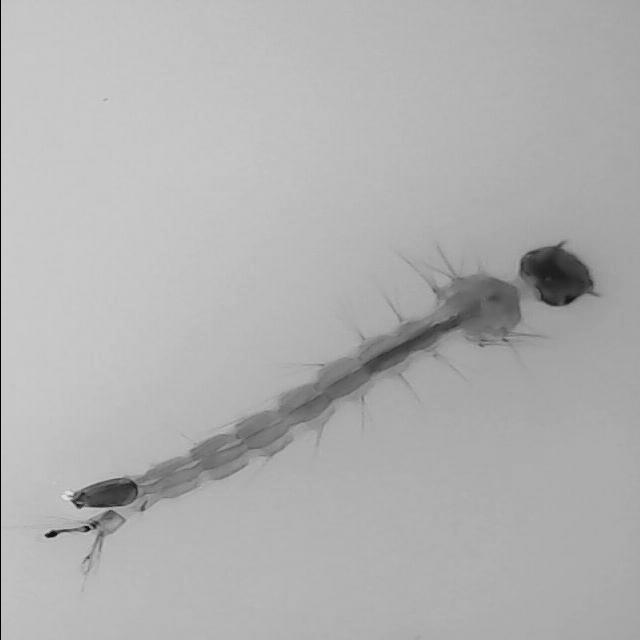larvas: (78, 247, 595, 573)
